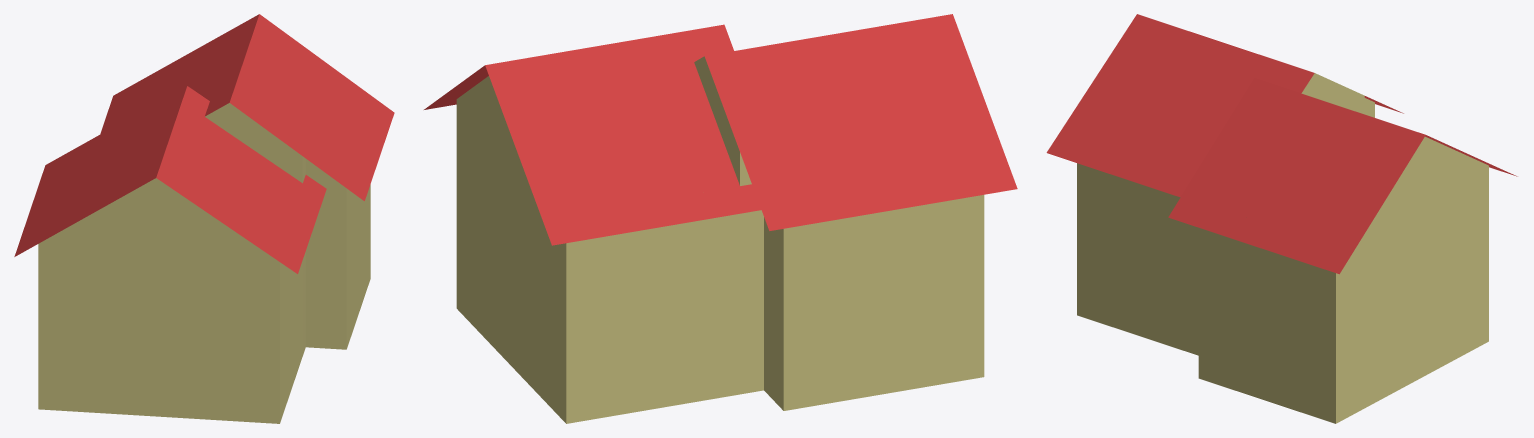
3 views of the same model, side by side, from view 1: azimuth 30°, elevation 25°; view 2: azimuth 150°, elevation 25°; view 3: azimuth 270°, elevation 25° (orthographic). The views are drawn at different scales.
Parts seen in each view (by area): view 1: group_5, group_3, group_7, group_9, group_8, group_4; view 2: group_9, group_3, group_5, group_7, group_8, group_4; view 3: group_9, group_7, group_3, group_5, group_8, group_4.
Boxes of the visible parts, box(x1,y1,x2,y2) form: group_5: box(38, 178, 326, 423); group_3: box(14, 86, 326, 273); group_7: box(114, 14, 394, 200); group_9: box(205, 103, 370, 349); group_8: box(100, 14, 393, 200); group_4: box(15, 163, 296, 273); group_9: box(456, 76, 739, 423); group_3: box(704, 14, 1017, 230); group_5: box(694, 56, 984, 410); group_7: box(424, 24, 757, 245); group_8: box(431, 61, 761, 245); group_4: box(771, 15, 1014, 230); group_9: box(1198, 136, 1488, 423); group_7: box(1168, 78, 1517, 274); group_3: box(1046, 14, 1402, 197); group_5: box(1077, 73, 1374, 355); group_8: box(1169, 130, 1500, 271); group_4: box(1050, 17, 1403, 150).
Size of the model in its own units: 23.67 by 21.74 by 12.95.
